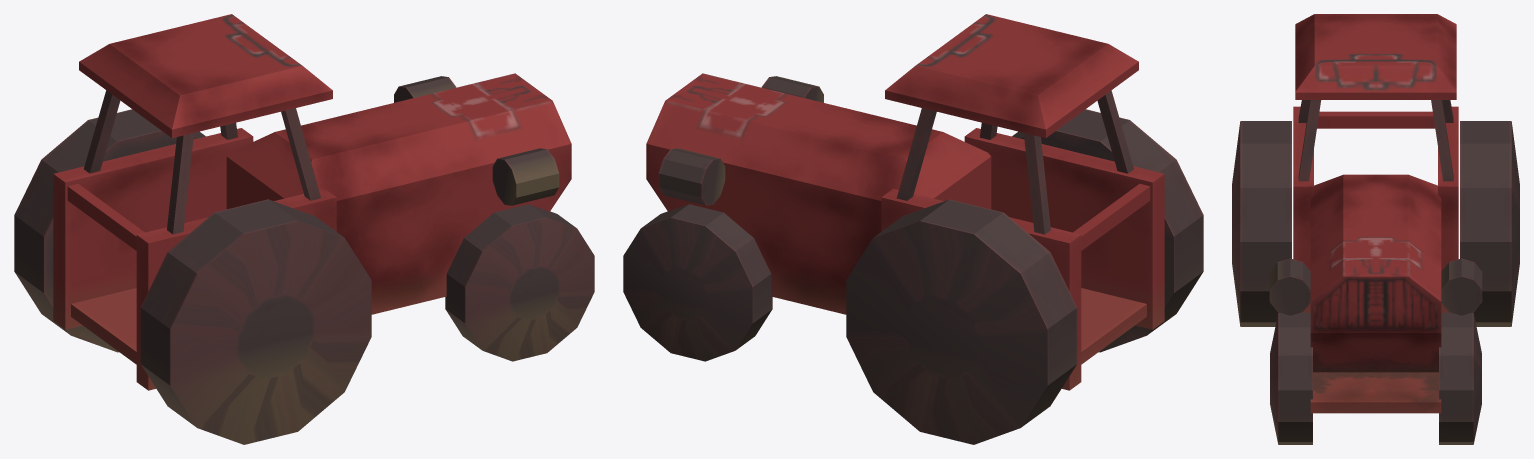
The model's file is Msh_Tractor_Toy_Env.fbx.
The picture shows the model from 3 angles, left to right: view 1: azimuth 30°, elevation 25°; view 2: azimuth 150°, elevation 25°; view 3: azimuth 270°, elevation 25°; orthographic projection. The views are drawn at different scales.
Visible parts, largest first — view 1: Msh_Tractor_Toy_Env; view 2: Msh_Tractor_Toy_Env; view 3: Msh_Tractor_Toy_Env.
Boxes of the visible parts, x1=… form: Msh_Tractor_Toy_Env: x1=14, y1=14, x2=594, y2=444; Msh_Tractor_Toy_Env: x1=623, y1=14, x2=1203, y2=444; Msh_Tractor_Toy_Env: x1=1232, y1=14, x2=1519, y2=444.
Bounding box in the file's own units: 124 × 85.33 × 78.36.
